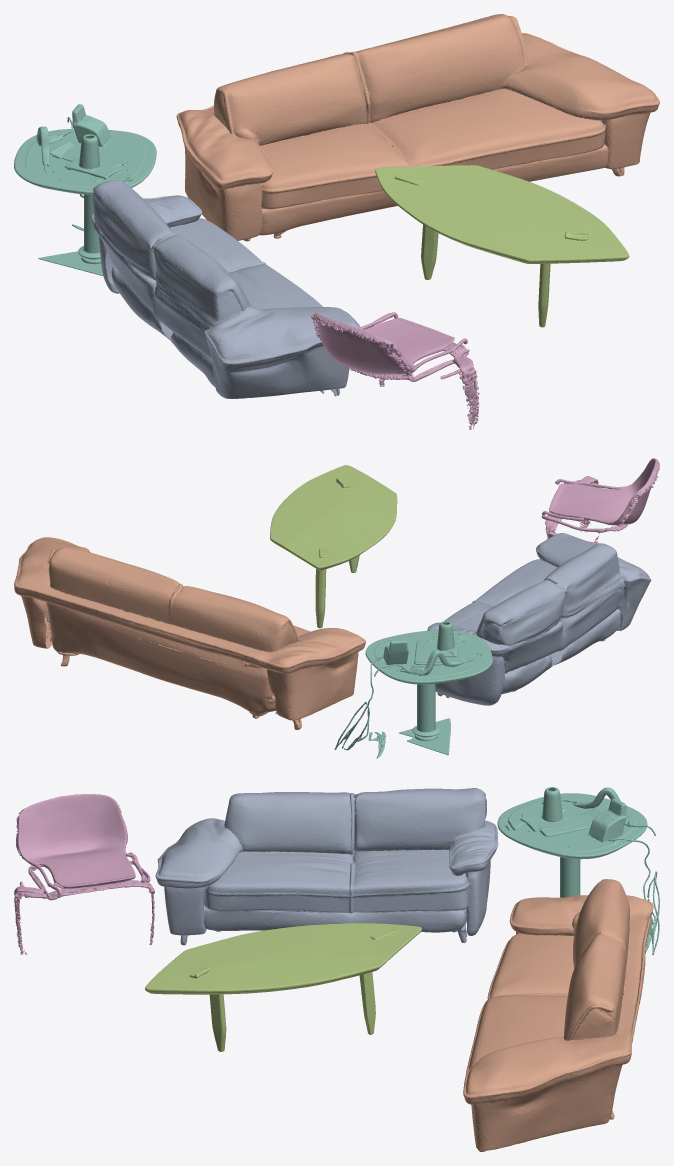
Rendered from ours_draco.glb.
3 views of the same model, one above another, from view 1: azimuth 30°, elevation 25°; view 2: azimuth 150°, elevation 25°; view 3: azimuth 270°, elevation 25° (orthographic). The views are drawn at different scales.
Visible parts, largest first — view 1: target_1_0, target_2_0, target_4_0, target_0_0, target_3_0; view 2: target_1_0, target_2_0, target_4_0, target_0_0, target_3_0; view 3: target_2_0, target_1_0, target_4_0, target_3_0, target_0_0.
Part boxes in pixels (bbox=[...]): target_1_0: bbox=[176, 14, 659, 241]; target_2_0: bbox=[91, 180, 360, 398]; target_4_0: bbox=[375, 165, 629, 327]; target_0_0: bbox=[14, 104, 156, 275]; target_3_0: bbox=[311, 312, 479, 429]; target_1_0: bbox=[14, 537, 365, 729]; target_2_0: bbox=[427, 533, 651, 705]; target_4_0: bbox=[270, 465, 397, 628]; target_0_0: bbox=[334, 621, 492, 758]; target_3_0: bbox=[541, 458, 659, 544]; target_2_0: bbox=[155, 788, 498, 945]; target_1_0: bbox=[463, 879, 653, 1151]; target_4_0: bbox=[145, 923, 421, 1051]; target_3_0: bbox=[14, 794, 154, 954]; target_0_0: bbox=[497, 787, 659, 955].
Size of the model in its own units: 1 by 0.2182 by 0.9859.
